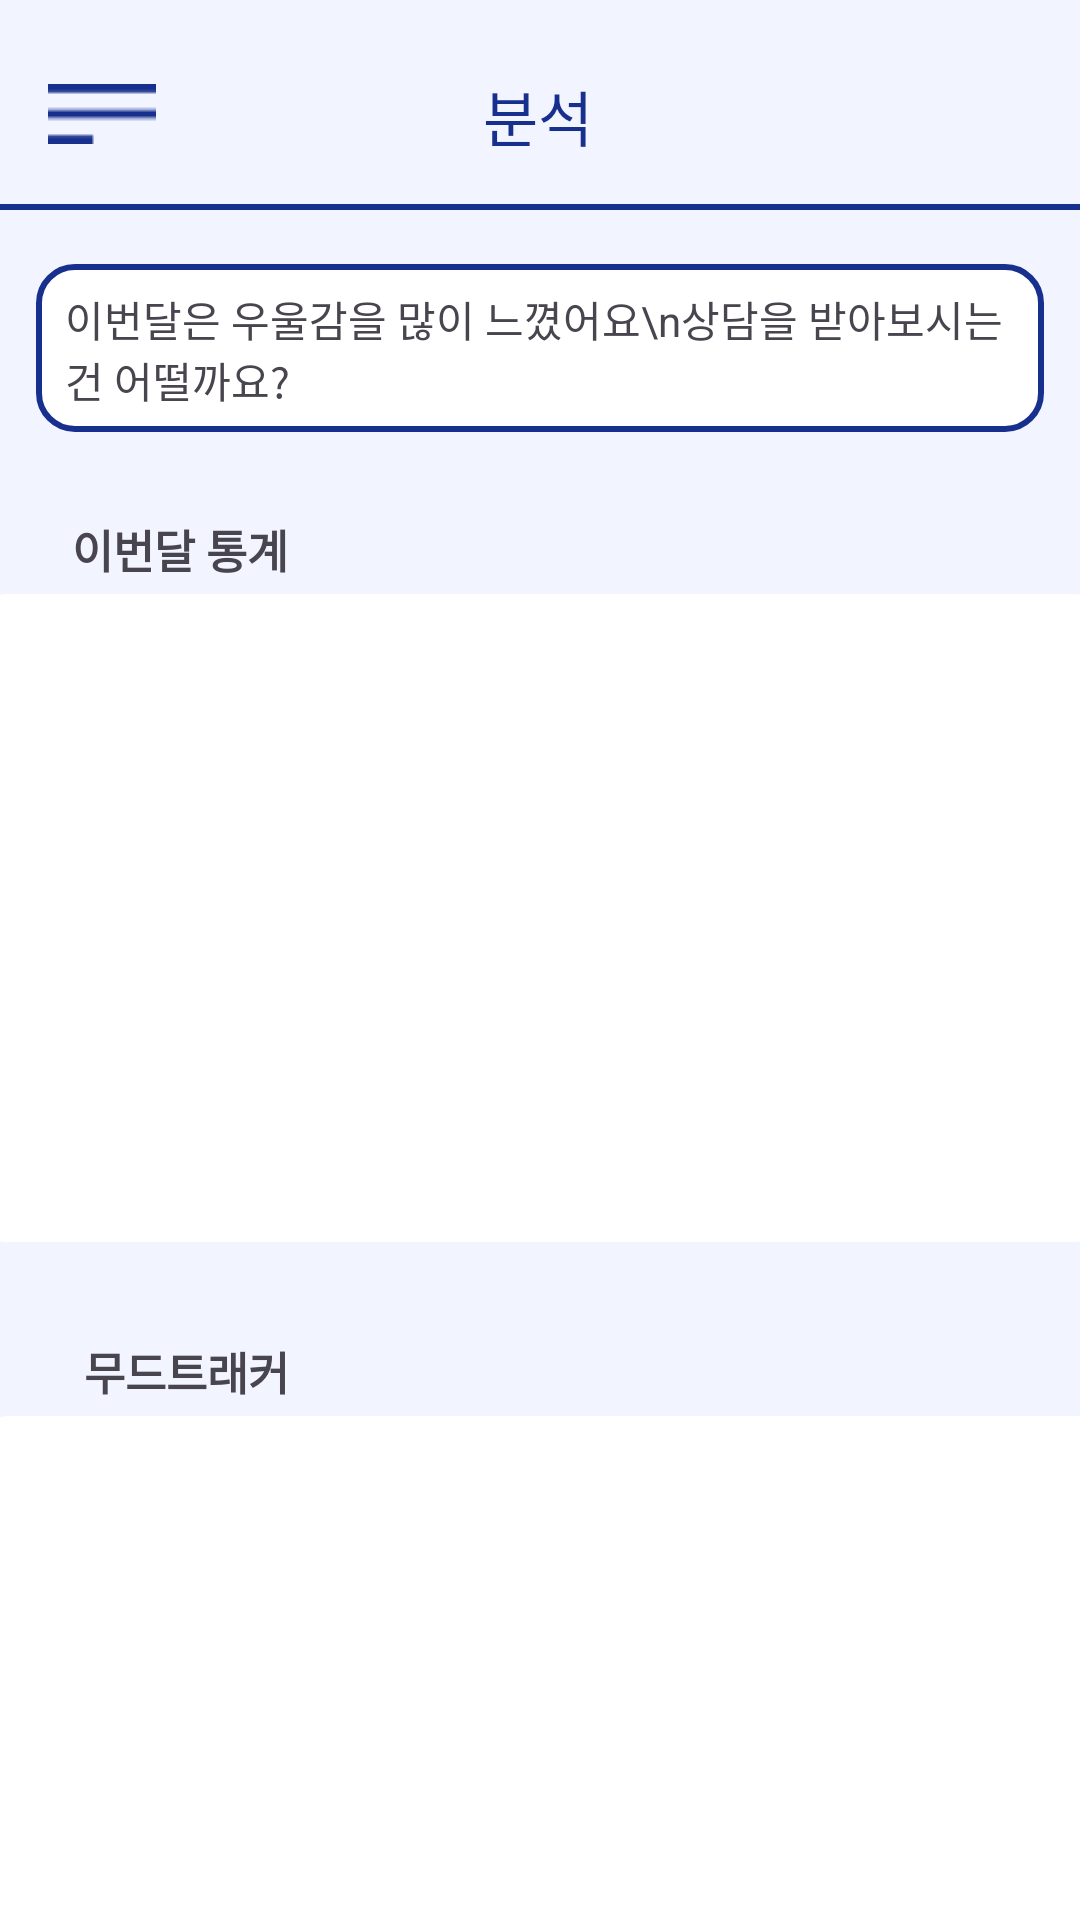

Screen size 1080w x 1920h. Icon name, then its center in pixels as point (x, y):
menu: point (102, 114)
